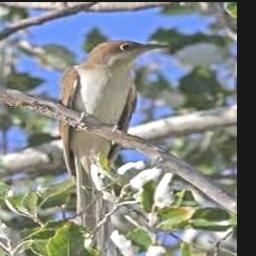Cuckoo: (58, 41, 169, 256)
